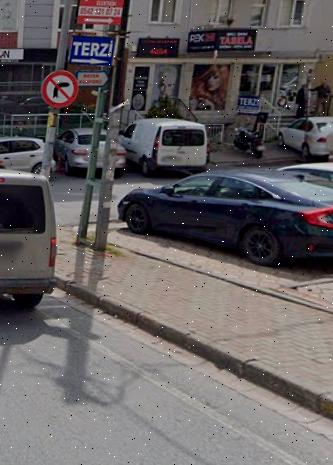turnright: (41, 70, 78, 109)
